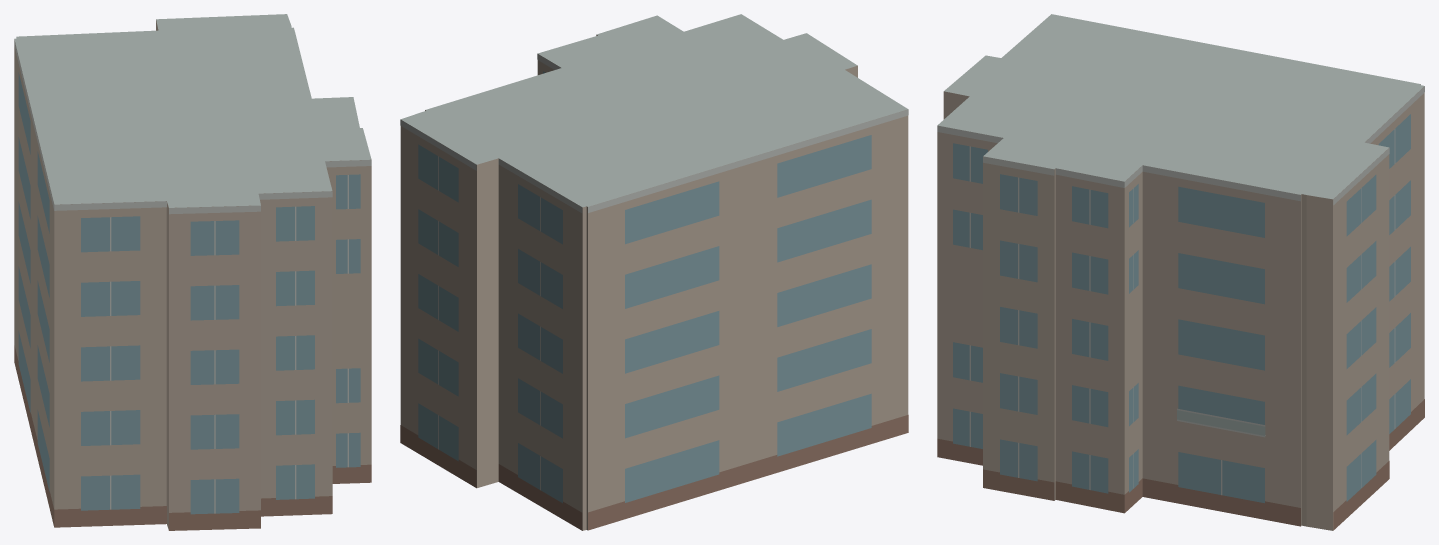
The model's file is survey-upis-33035545.glb.
3 renders of one model, left to right at view 1: azimuth 30°, elevation 25°; view 2: azimuth 150°, elevation 25°; view 3: azimuth 270°, elevation 25°, orthographic. The views are drawn at different scales.
Parts seen in each view (by area): view 1: survey-upis-33035545.tmp; view 2: survey-upis-33035545.tmp; view 3: survey-upis-33035545.tmp.
Boxes of the visible parts, x1,y1,x2,y2 form: survey-upis-33035545.tmp: (14, 14, 371, 530); survey-upis-33035545.tmp: (400, 14, 908, 530); survey-upis-33035545.tmp: (937, 14, 1424, 530).
Bounding box in the file's own units: 15.11 × 12.6 × 16.8.
